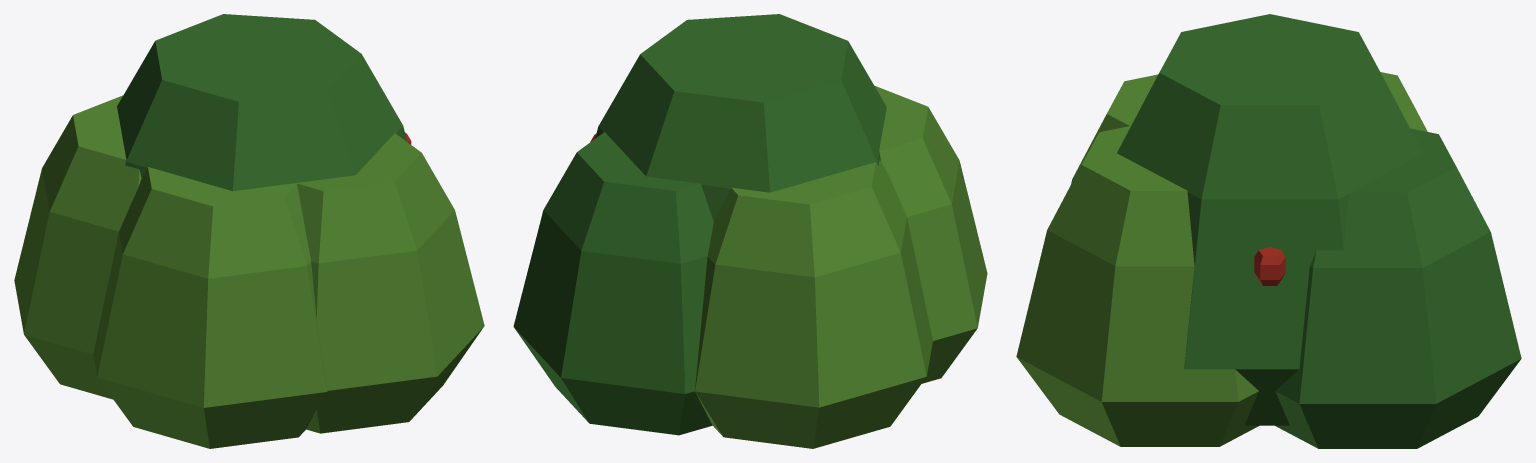
File: bush_b.glb
3 views of the same model, side by side, from view 1: azimuth 30°, elevation 25°; view 2: azimuth 150°, elevation 25°; view 3: azimuth 270°, elevation 25° (orthographic). The views are drawn at different scales.
Visible parts, largest first — view 1: bush_b; view 2: bush_b; view 3: bush_b.
Part boxes in pixels (x1=…): bush_b: x1=14, y1=14, x2=484, y2=448; bush_b: x1=513, y1=14, x2=987, y2=448; bush_b: x1=1016, y1=14, x2=1521, y2=448.
Size of the model in its own units: 0.463 by 0.3774 by 0.5332.
